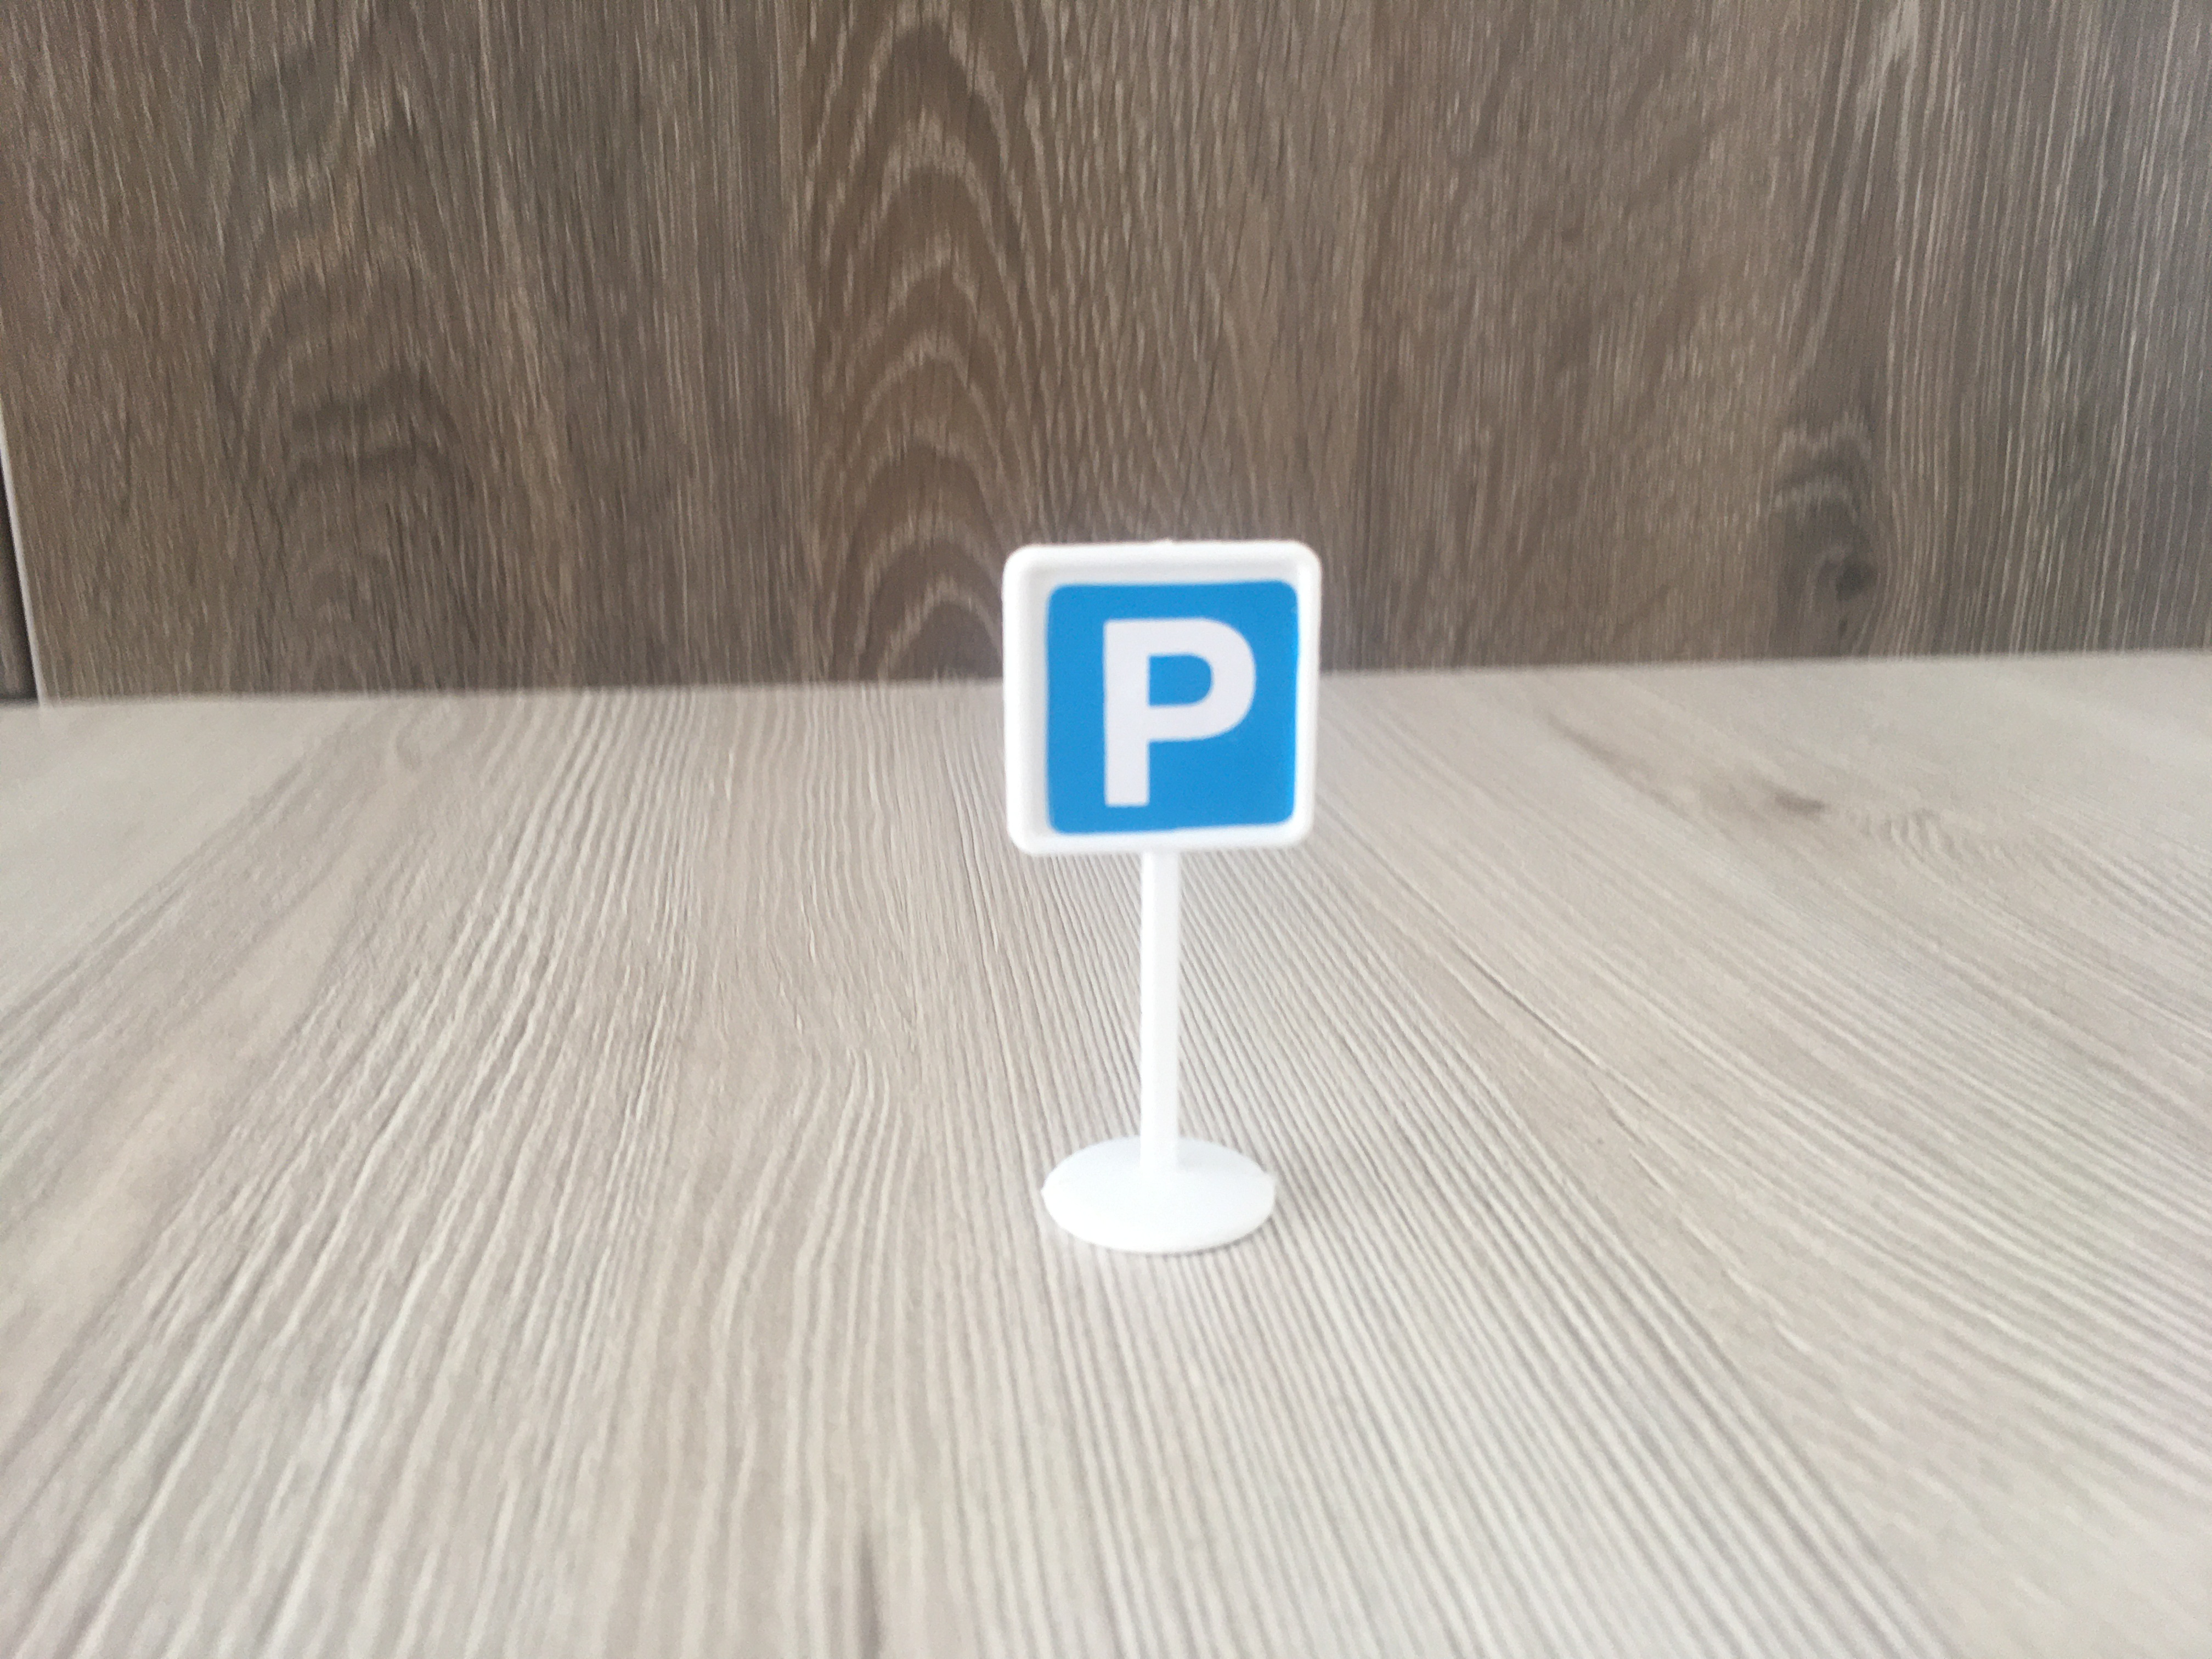parking: (1008, 551, 1320, 850)
